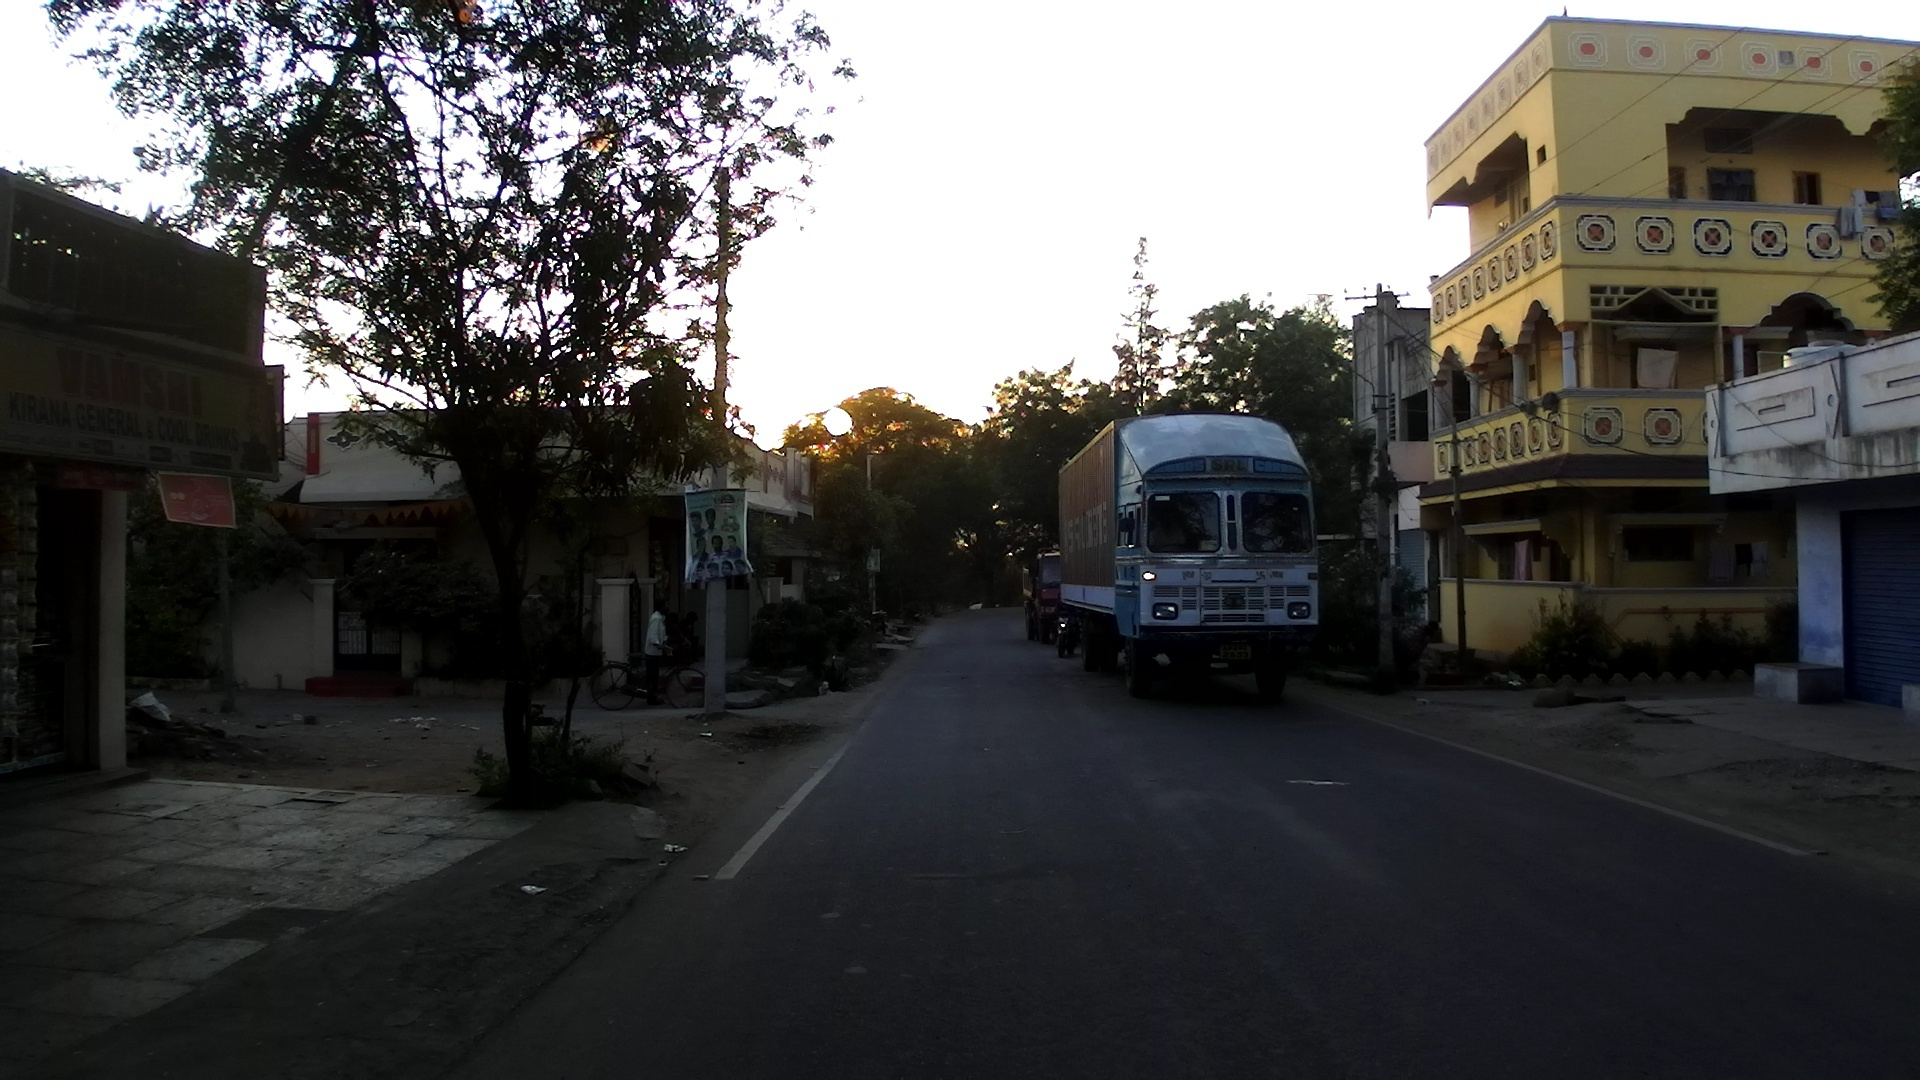bicycle: (588, 659, 711, 722)
motorcycle: (1053, 597, 1086, 661)
rider: (640, 599, 675, 712)
truck: (1052, 417, 1316, 706), (1013, 546, 1067, 644)
